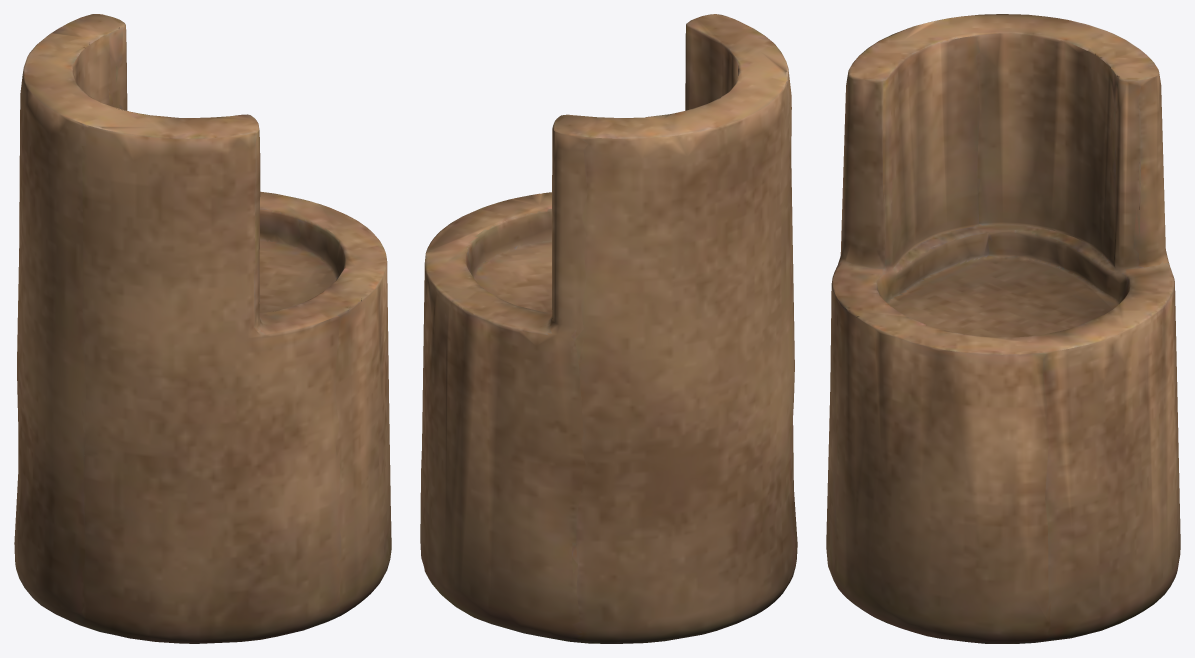
File: plain-sandstone-balcony-v001.glb
The picture shows the model from 3 angles, left to right: view 1: azimuth 30°, elevation 25°; view 2: azimuth 150°, elevation 25°; view 3: azimuth 270°, elevation 25°; orthographic projection. The views are drawn at different scales.
Visible parts, largest first — view 1: plain-sandstone-balcony; view 2: plain-sandstone-balcony; view 3: plain-sandstone-balcony.
Part boxes in pixels (x1,y1,x2,y2): plain-sandstone-balcony: [14, 14, 391, 643]; plain-sandstone-balcony: [420, 14, 797, 643]; plain-sandstone-balcony: [826, 14, 1180, 643].
Size of the model in its own units: 0.8125 by 1.19 by 0.7858.
Materials: 1 (1 with a texture image).
